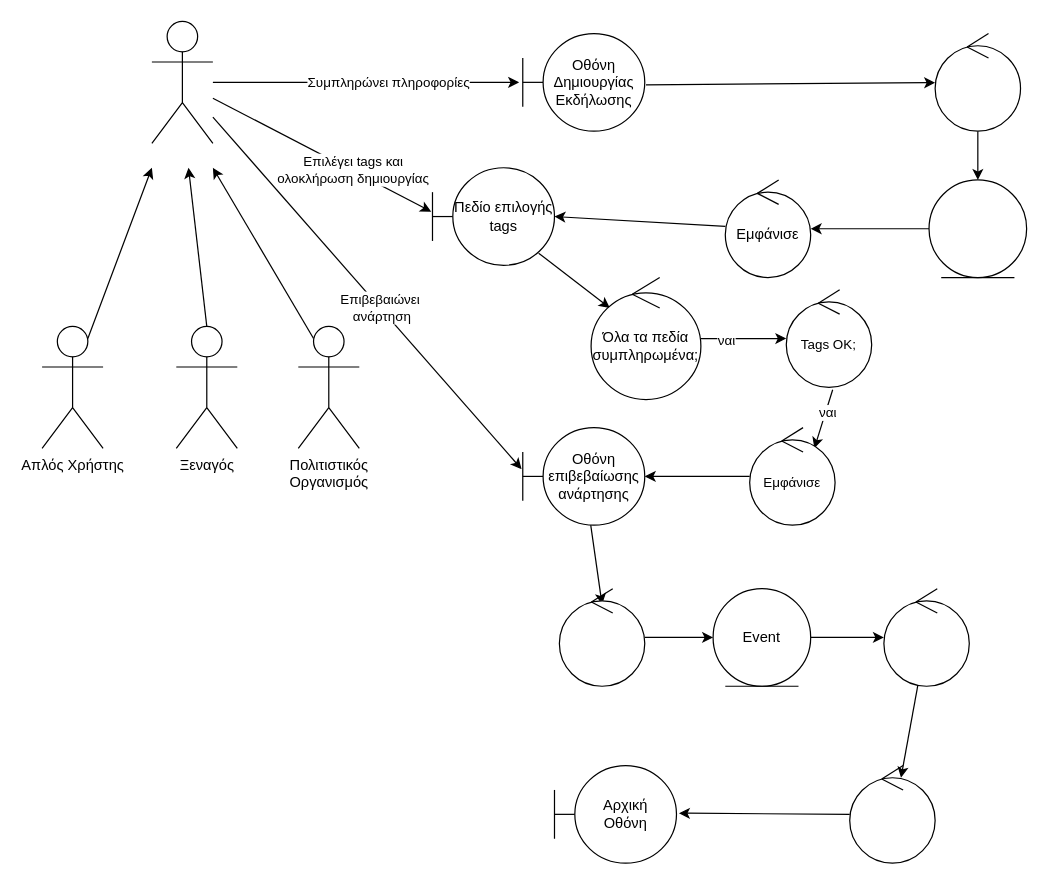
Some shapes in this 1048 by 885 pixel diagram are drawn without their labels. Each missing label, with the centre of its shape:
Tags: [977,228]
Αποθήκευση: [926,636]
Δημιούργησε: [601,636]
Μεταφορά: [892,813]
Φορτώνει: [977,81]
Χειριστής: [182,81]
